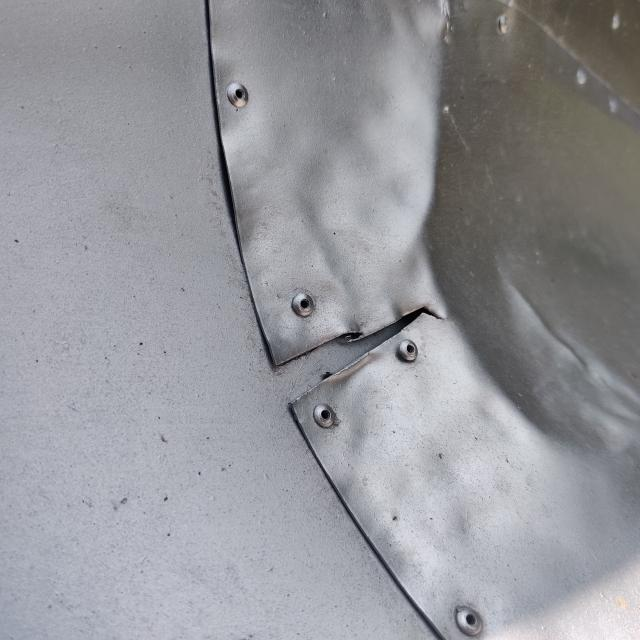crack: (260, 290, 461, 420)
dent: (390, 0, 640, 476)
